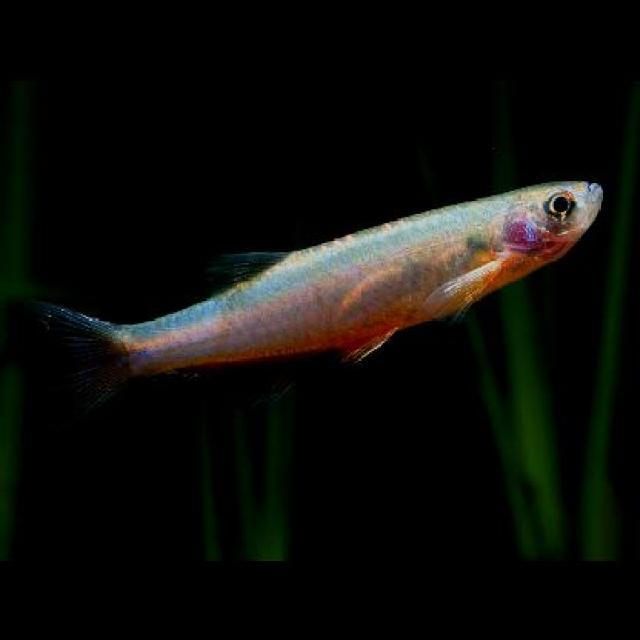ZebraFish: (22, 178, 606, 434)
